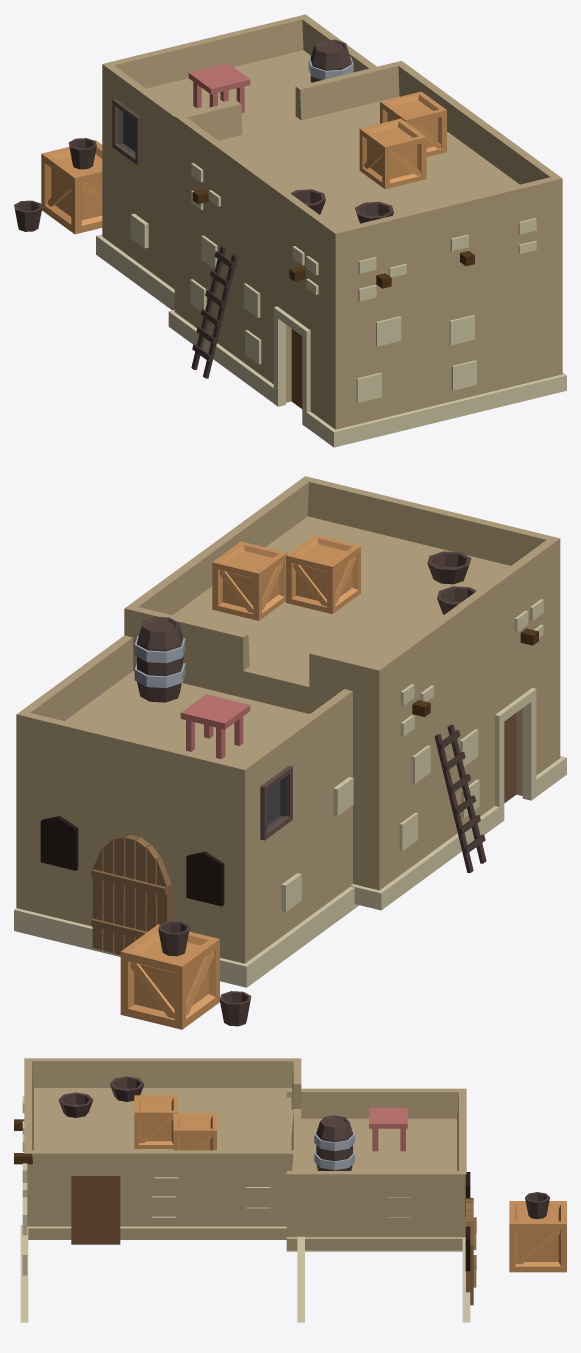
File: fangzi01.FBX
The picture shows the model from 3 angles, top to bottom: view 1: azimuth 30°, elevation 25°; view 2: azimuth 150°, elevation 25°; view 3: azimuth 270°, elevation 25°; orthographic projection. The views are drawn at different scales.
Visible parts, largest first — view 1: fangzi01; view 2: fangzi01; view 3: fangzi01.
Boxes of the visible parts, bbox=[...] form: fangzi01: bbox=[14, 14, 566, 447]; fangzi01: bbox=[14, 476, 566, 1029]; fangzi01: bbox=[14, 1058, 566, 1322].
Bounding box in the file's own units: 951 × 791 × 2025.
